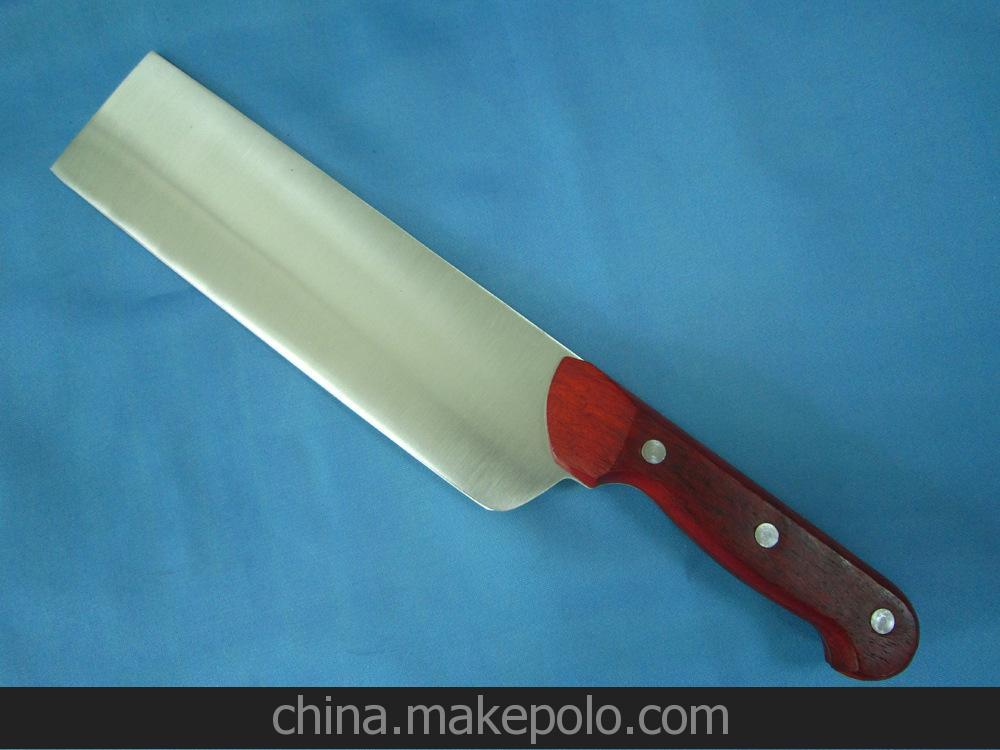knief: (96, 81, 924, 674)
